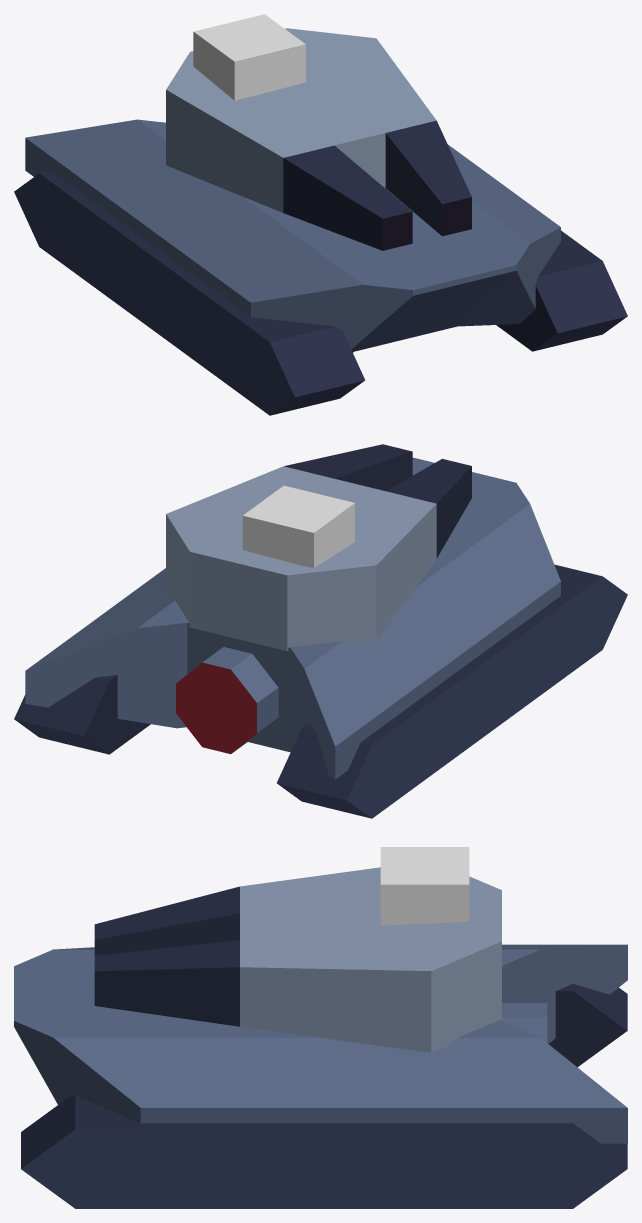
The model's file is tank.glb.
3 views of the same model, one above another, from view 1: azimuth 30°, elevation 25°; view 2: azimuth 150°, elevation 25°; view 3: azimuth 270°, elevation 25° (orthographic). The views are drawn at different scales.
Visible parts, largest first — view 1: Cube, Head, wheelsright, wheelsleft, Cube.002; view 2: Cube, Head, wheelsright, Cube.002, wheelsleft; view 3: Cube, Head, wheelsleft, Cube.002, wheelsright.
Part boxes in pixels (box(x1,y1,x2,y2)): Cube: box(25, 119, 560, 352); Head: box(166, 28, 471, 250); wheelsright: box(14, 170, 364, 415); wheelsleft: box(496, 230, 627, 351); Cube.002: box(193, 14, 305, 100); Cube: box(25, 457, 560, 779); Head: box(166, 444, 471, 651); wheelsright: box(277, 564, 627, 818); Cube.002: box(242, 485, 354, 567); wheelsleft: box(14, 675, 150, 754); Cube: box(14, 944, 627, 1143); Head: box(94, 867, 501, 1052); wheelsleft: box(21, 1095, 627, 1208); Cube.002: box(380, 847, 469, 925); wheelsright: box(549, 983, 627, 1067).
Bounding box in the file's own units: 0.9323 × 0.6011 × 1.38.
Materials: 4 (4 with a texture image).
